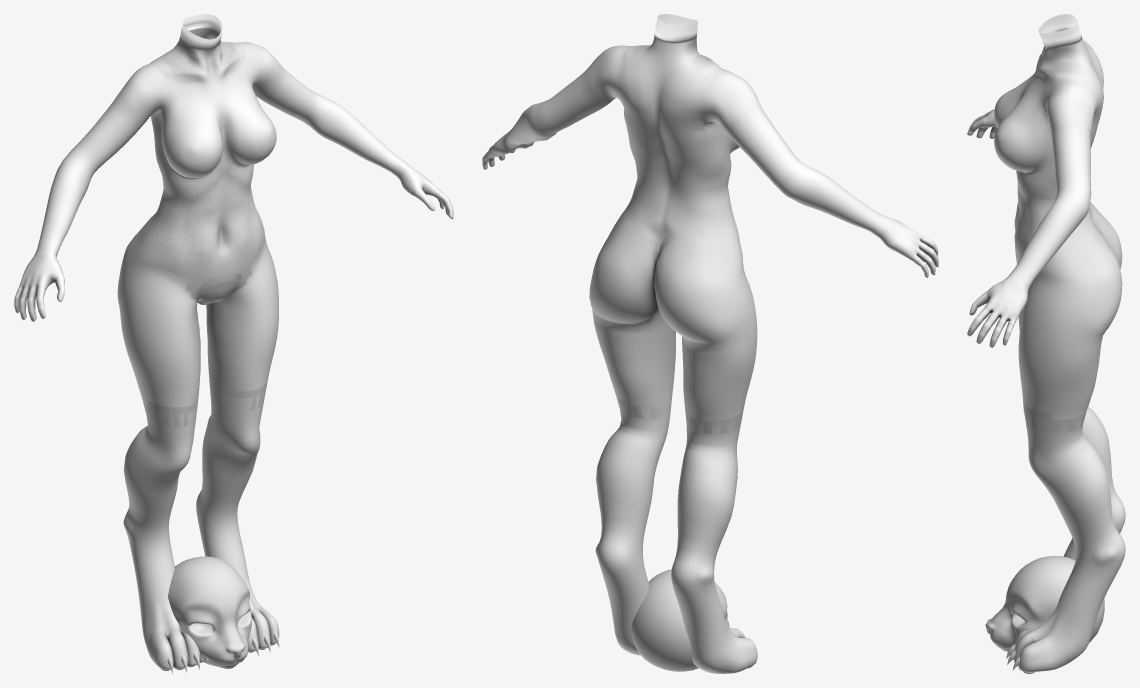
The model's file is MyBody.fbx.
3 views of the same model, side by side, from view 1: azimuth 30°, elevation 25°; view 2: azimuth 150°, elevation 25°; view 3: azimuth 270°, elevation 25° (orthographic). The views are drawn at different scales.
Parts seen in each view (by area): view 1: Body, Digilegs, BestHead, CrotchMale; view 2: Body, Digilegs, BestHead; view 3: Body, Digilegs, BestHead.
Boxes of the visible parts, x1,y1,x2,y2 form: Body: (14, 14, 453, 426); Digilegs: (123, 381, 279, 673); BestHead: (168, 556, 252, 668); CrotchMale: (185, 268, 252, 304); Body: (482, 14, 938, 434); Digilegs: (595, 385, 757, 673); BestHead: (631, 569, 729, 671); Body: (967, 14, 1122, 433); Digilegs: (1006, 403, 1125, 673); BestHead: (985, 556, 1104, 651).
Bounding box in the file's own units: 114 × 159 × 36.34.
10 materials, 1 textured.
